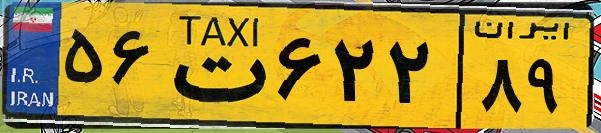2: (385, 28, 445, 110), (330, 28, 385, 110)
5: (57, 26, 110, 100)
6: (270, 28, 330, 110), (110, 28, 158, 98)
8: (475, 38, 525, 113)
9: (525, 38, 570, 115)
ت: (158, 12, 270, 120)
